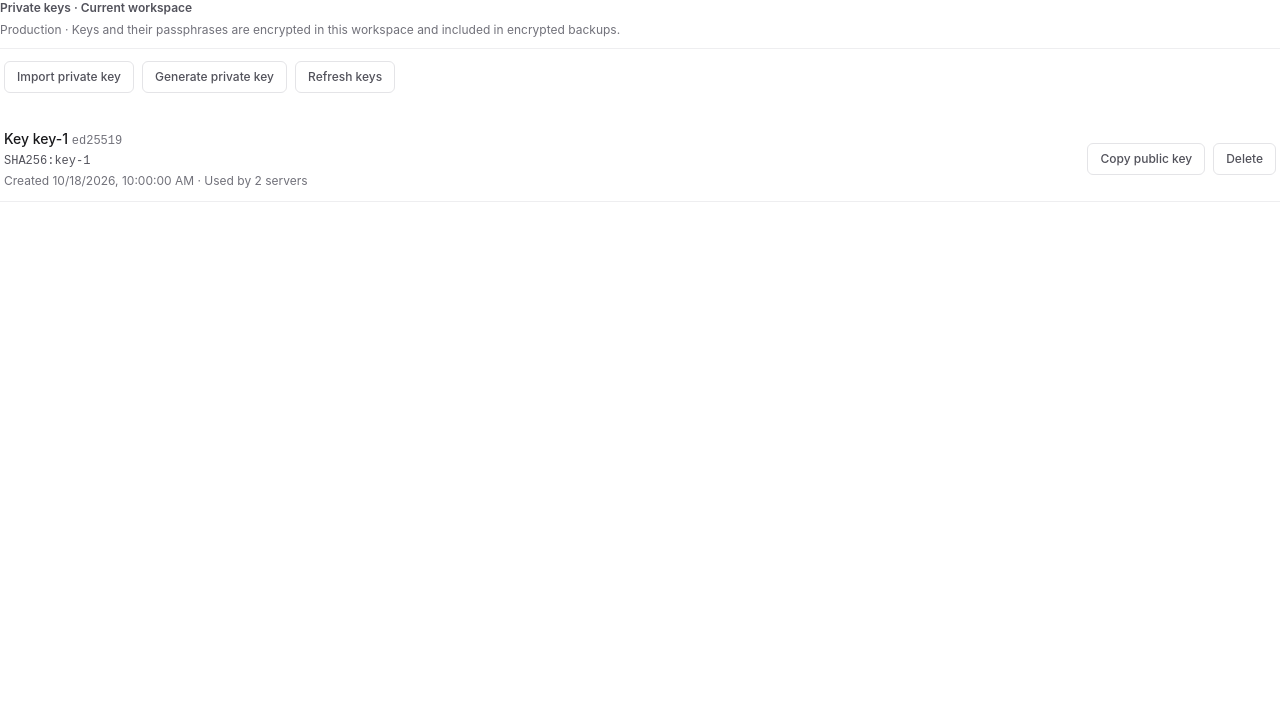
Scenario: current workspace private keys › adopts deletion profiles once, preserving draft and other temporary profiles
Click the button "Delete" at (1245, 158), box x1=1213 y1=142 x2=1276 y2=174
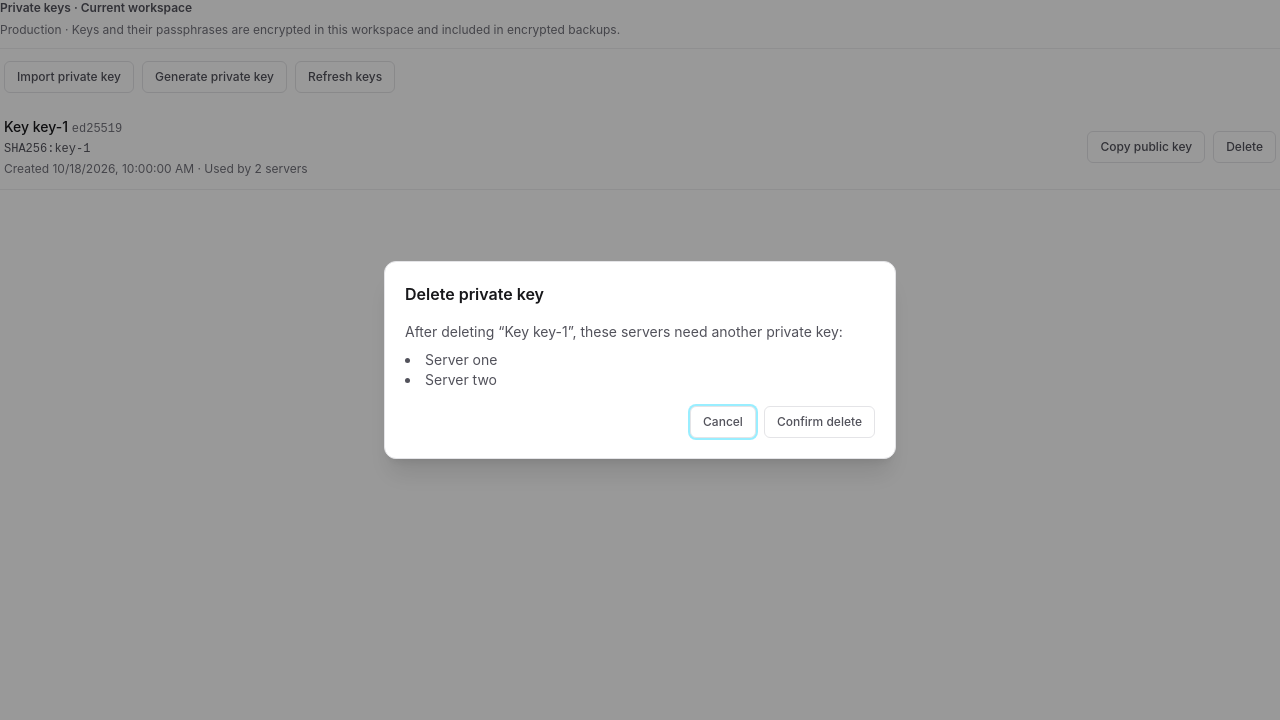
expect the dialog shows "Server one": met, box x1=425 y1=351 x2=497 y2=368
expect the dialog shows "Server two": met, box x1=425 y1=371 x2=497 y2=388
Submit the form, box x1=405 y1=322 x2=875 y2=438
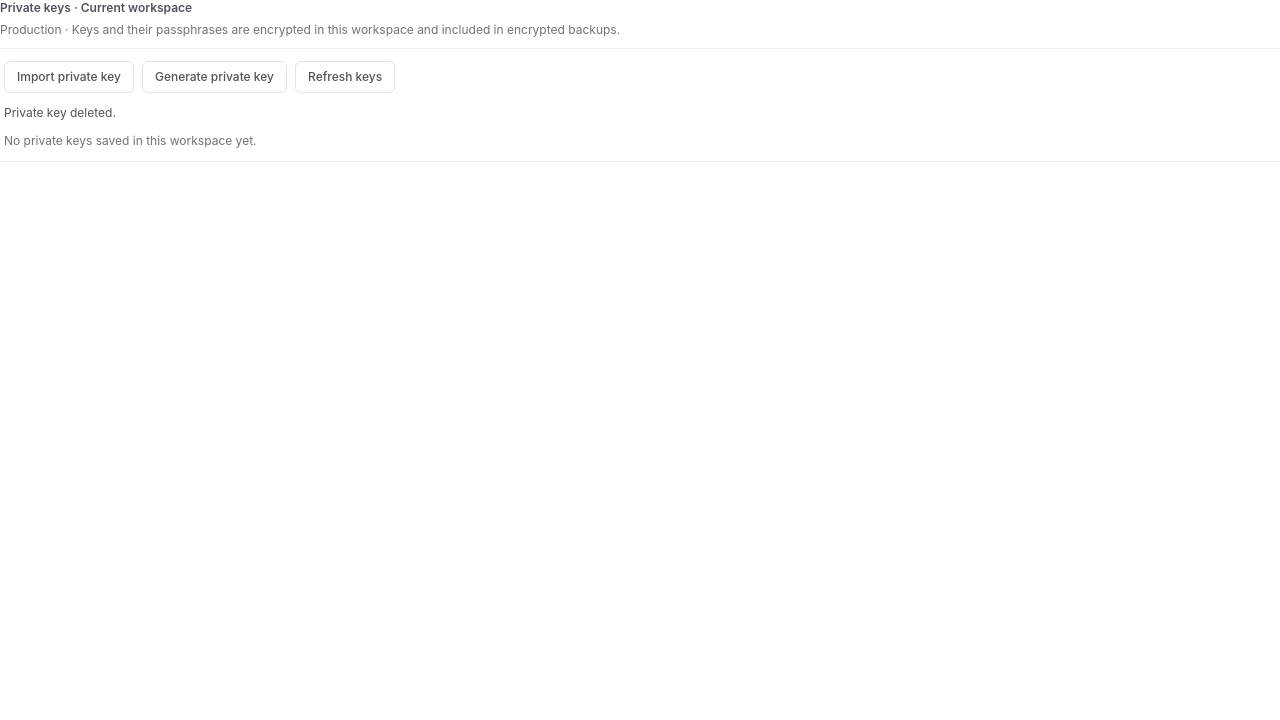
expect the text "No private keys saved in this workspace yet." is shown: met, box x1=4 y1=132 x2=256 y2=148
expect the text "SHA256:key-1" is gone: met
